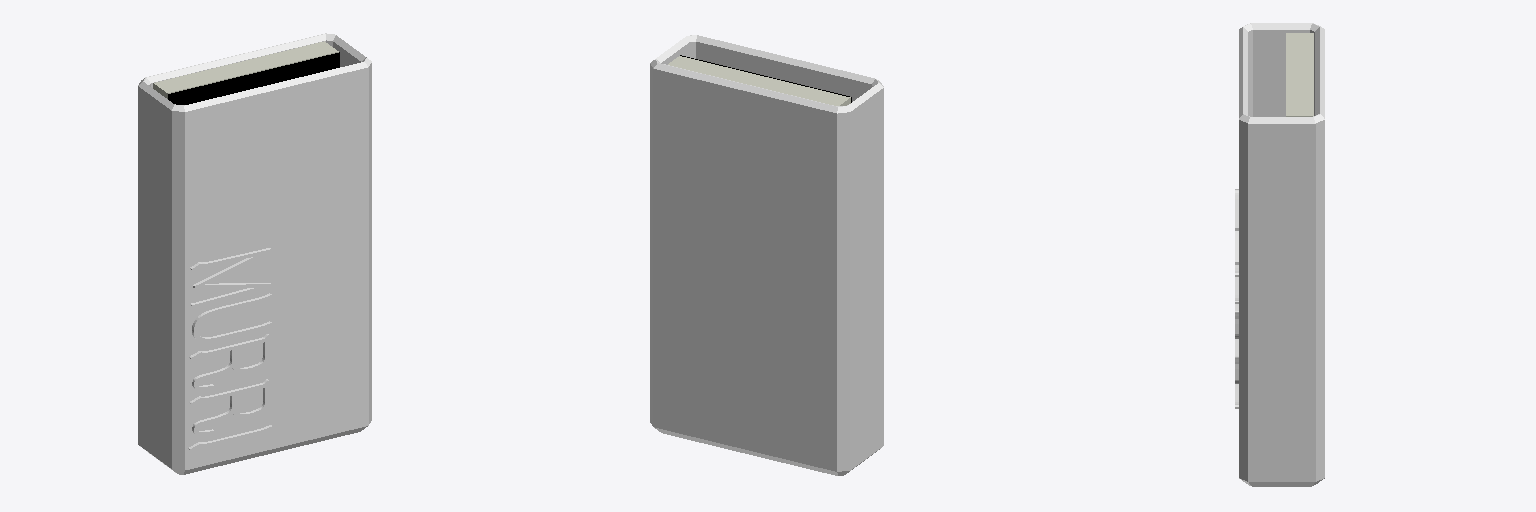
The model's file is murri.obj.
3 views of the same model, side by side, from view 1: azimuth 30°, elevation 25°; view 2: azimuth 150°, elevation 25°; view 3: azimuth 270°, elevation 25° (orthographic).
Visible parts, largest first — view 1: ComponentBody.20, Core, Solder_Top; view 2: ComponentBody.20, Core; view 3: ComponentBody.20, Core.
Boxes of the visible parts, x1=… form: ComponentBody.20: x1=138, y1=33, x2=371, y2=474; Core: x1=153, y1=41, x2=338, y2=98; Solder_Top: x1=168, y1=52, x2=339, y2=104; ComponentBody.20: x1=650, y1=35, x2=883, y2=475; Core: x1=668, y1=56, x2=850, y2=105; ComponentBody.20: x1=1235, y1=23, x2=1324, y2=486; Core: x1=1286, y1=33, x2=1313, y2=116.
Size of the model in its own units: 1.2 by 2.12 by 0.47.